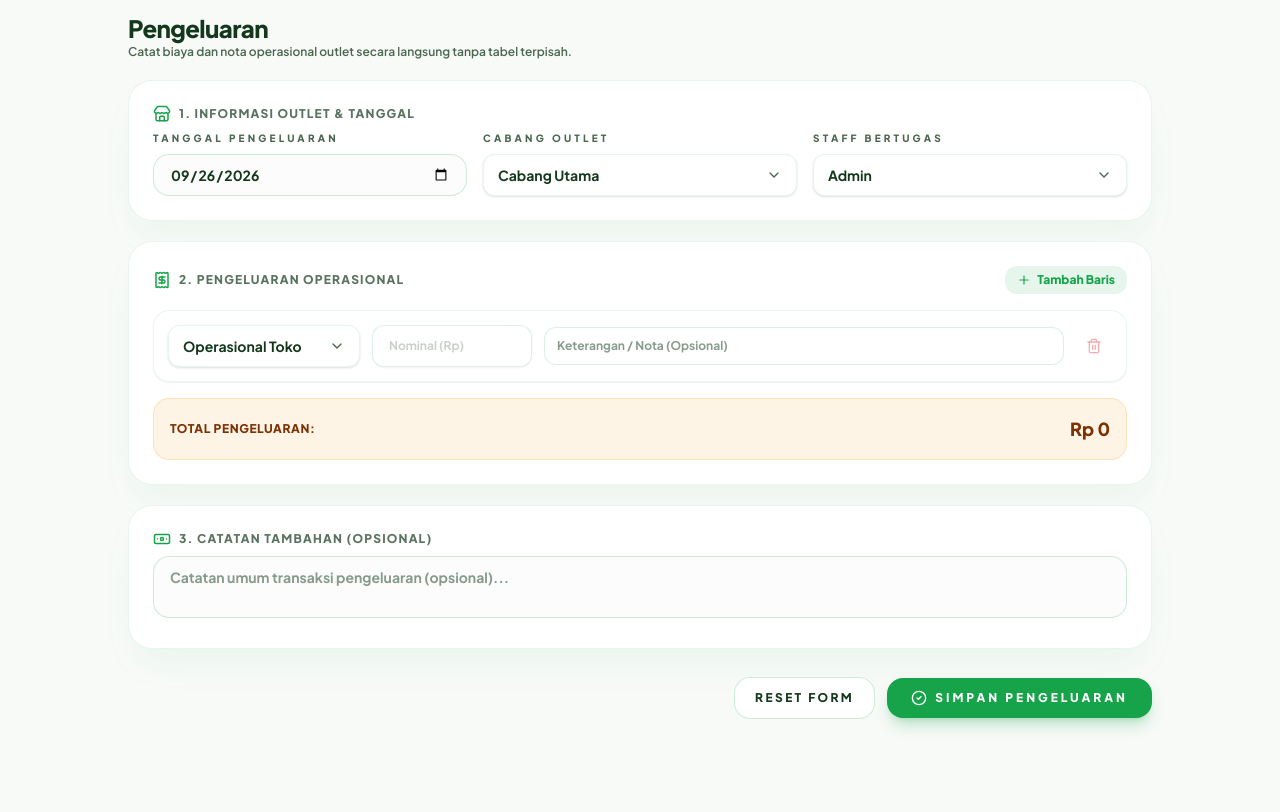
Test: KasKeluarPanel › shows error alert when trying to submit with 0 or empty nominal
The width and height of the screenshot is (1280, 812).
Click the button "Simpan Pengeluaran": (1020, 698) [887,678,1152,718]
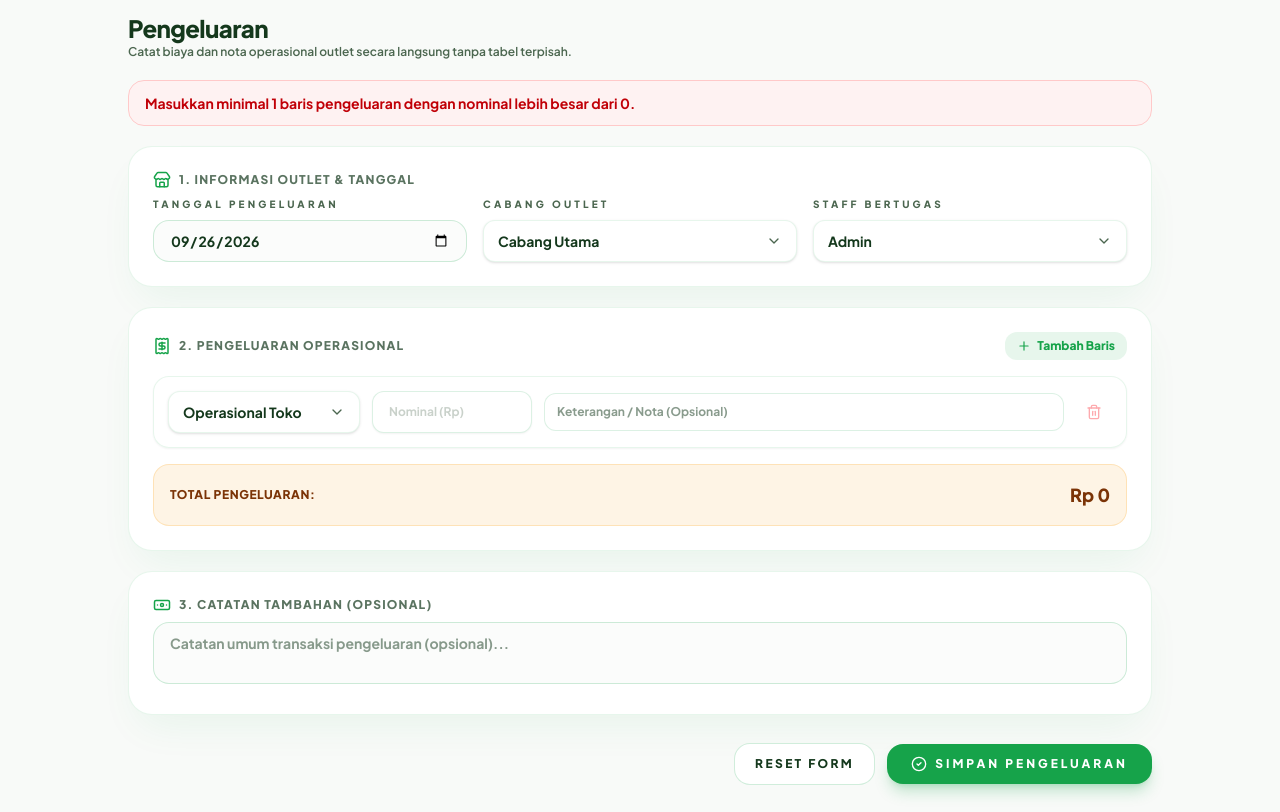
Expected: the text "Masukkan minimal 1 baris pengeluaran dengan nominal lebih besar dari 0" is shown, [145,94,635,112]
